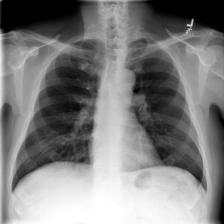normal: (5, 28, 212, 201)
